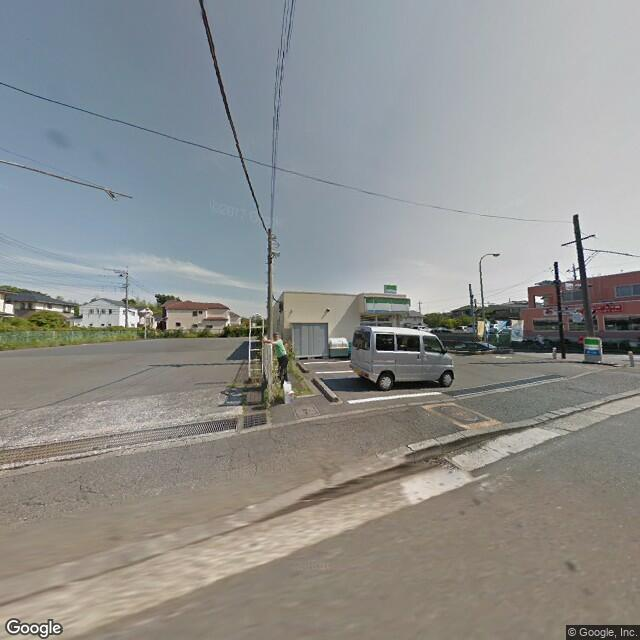family_mart: (364, 295, 412, 317), (582, 338, 602, 358), (383, 280, 397, 300)
